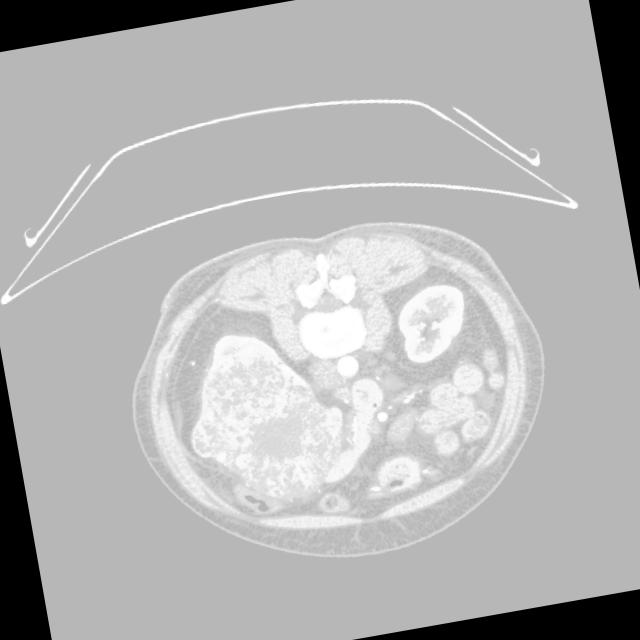TUMOR: (140, 236, 590, 518)
